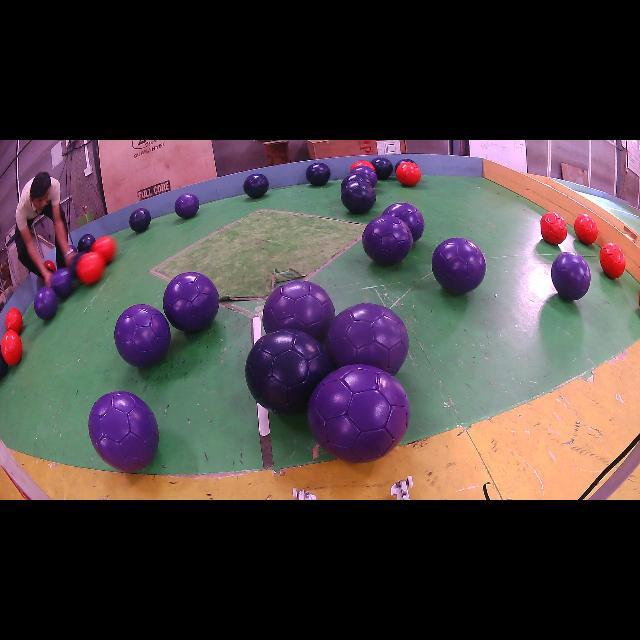B: (245, 329, 331, 414), (341, 180, 376, 214), (340, 172, 374, 191), (244, 174, 269, 199), (306, 162, 330, 186), (129, 208, 151, 232), (371, 158, 394, 180), (71, 251, 86, 275), (78, 234, 95, 251), (395, 159, 415, 172), (0, 349, 8, 378), (374, 175, 378, 184)
P: (308, 365, 410, 462), (326, 304, 409, 375), (89, 391, 159, 472), (345, 304, 408, 375), (262, 280, 335, 341), (114, 304, 170, 368), (162, 271, 220, 332), (432, 238, 486, 294), (362, 215, 412, 265), (551, 252, 591, 300), (382, 202, 425, 242), (34, 286, 58, 320), (350, 165, 378, 188), (51, 268, 72, 298), (175, 194, 200, 218)
R: (76, 251, 106, 284), (600, 242, 626, 279), (540, 212, 568, 245), (90, 235, 118, 262), (1, 330, 22, 365), (574, 214, 598, 244), (396, 162, 421, 186), (5, 308, 22, 333), (350, 160, 375, 171), (44, 260, 56, 272)
